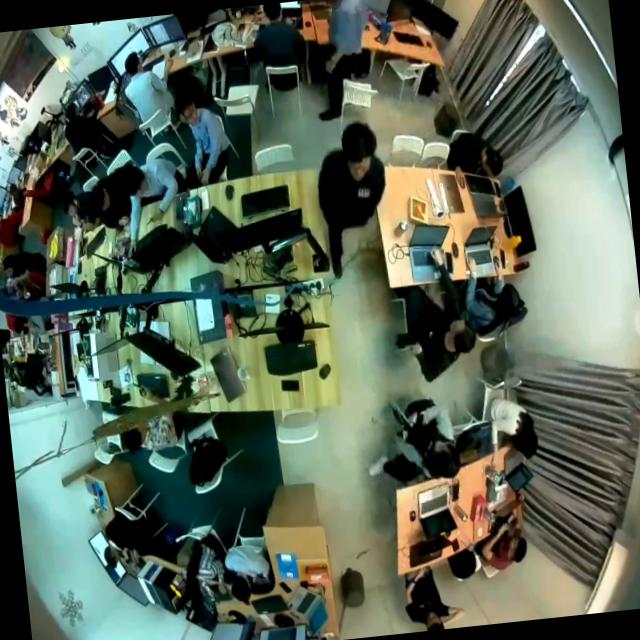employee_tag: (356, 183, 372, 200)
